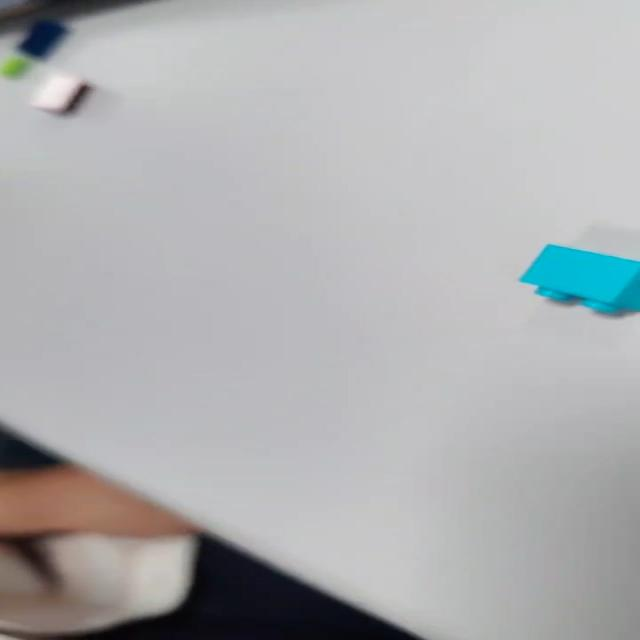C2x1x1: (515, 240, 640, 316)
